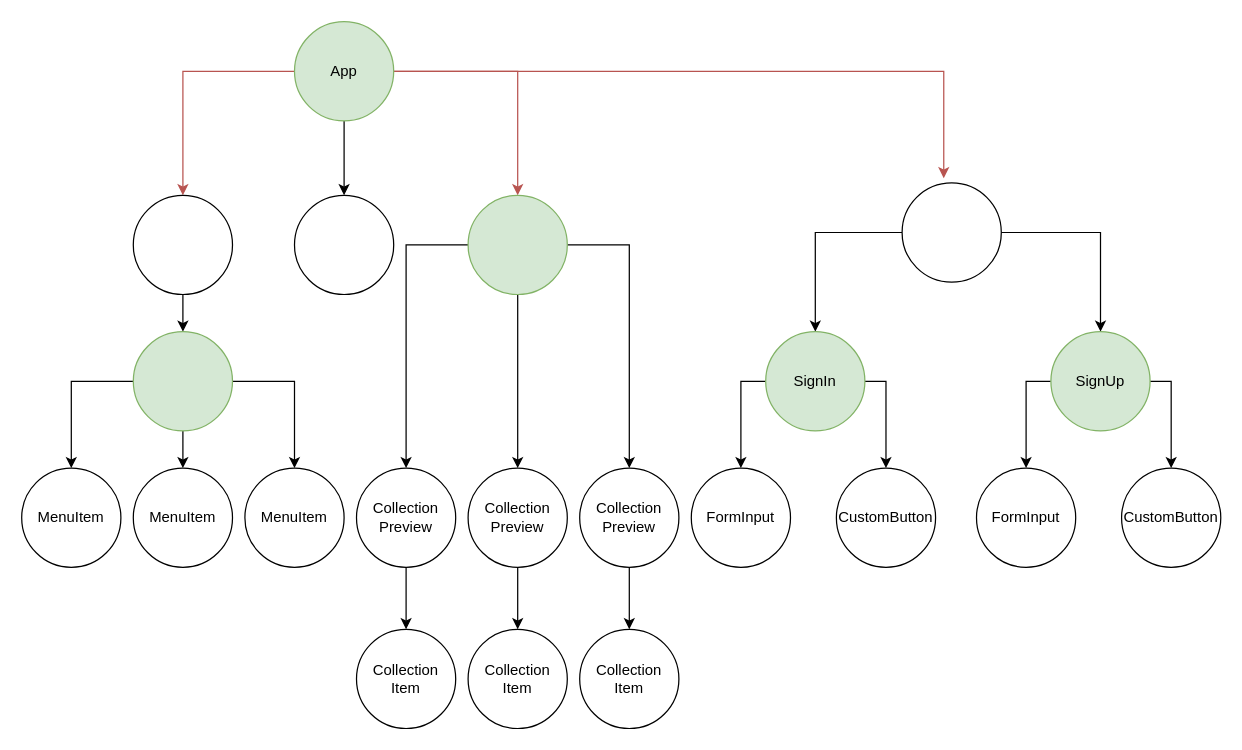
Image size: 1242x750. Some labels were removed from this diagram. The shapes that lost their labels are listed below. From the top down, each one's centre as x and y in pixels, then its label:
(x=182, y=244): HomePage
(x=343, y=244): Header
(x=517, y=244): ShopPage
(x=951, y=232): SignInAnd SignUpPage
(x=182, y=380): Menu
